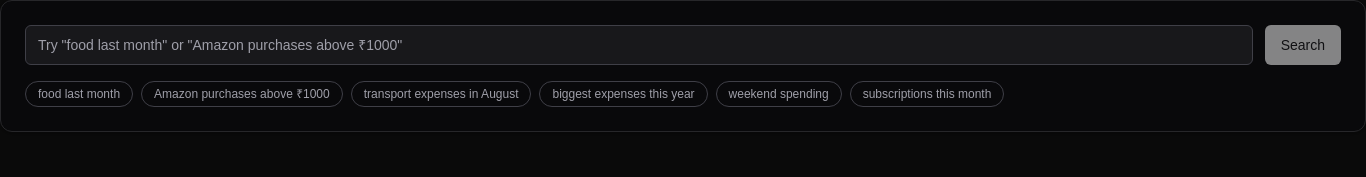
Scenario: NaturalLanguageSearch › shows an error message when the request fails
The width and height of the screenshot is (1366, 177).
Click the button "food last month" at {"x": 79, "y": 94}, box [25, 81, 133, 107]
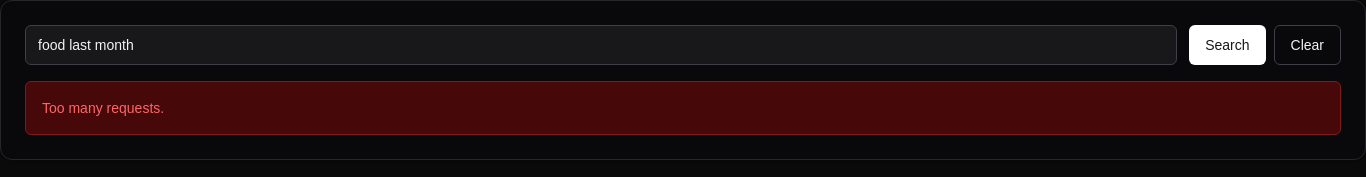
Result: the message reads "Too many requests." at [42, 100, 164, 116]
